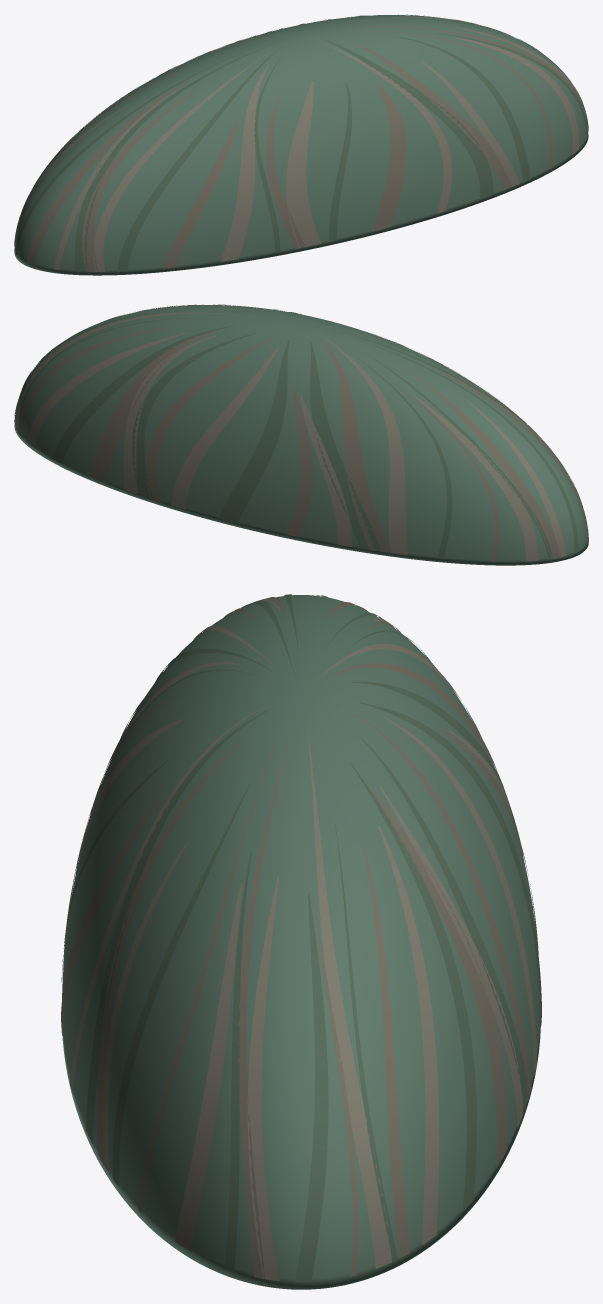
Rendered from tree06.glb.
3 renders of one model, top to bottom at view 1: azimuth 30°, elevation 25°; view 2: azimuth 150°, elevation 25°; view 3: azimuth 270°, elevation 25°, orthographic. The views are drawn at different scales.
Parts seen in each view (by area): view 1: Low forest hill, Long forest hill streak 35, Long forest hill streak 32, Long forest hill streak 37, Long forest hill streak 39, Long forest hill streak 30, Long forest hill streak 27, Long forest hill streak 40, Long forest hill streak 29, Long forest hill streak 28, Long forest hill streak 31, Long forest hill streak 25 (+13 smaller); view 2: Low forest hill, Long forest hill streak 16, Long forest hill streak 12, Long forest hill streak 17, Long forest hill streak 15, Long forest hill streak 07, Long forest hill streak 11, Long forest hill streak 09, Long forest hill streak 10, Long forest hill streak 20, Long forest hill streak 06, Long forest hill streak 22 (+14 smaller); view 3: Low forest hill, Long forest hill streak 02, Long forest hill streak 44, Long forest hill streak 00, Long forest hill streak 05, Long forest hill streak 47, Long forest hill streak 07, Long forest hill streak 06, Long forest hill streak 46, Long forest hill streak 04, Long forest hill streak 39, Long forest hill streak 45 (+16 smaller).
Part boxes in pixels (x1,y1,x2,y2): Low forest hill: [14, 15, 588, 275]; Long forest hill streak 35: [286, 81, 321, 248]; Long forest hill streak 32: [221, 64, 269, 261]; Long forest hill streak 37: [372, 83, 406, 231]; Long forest hill streak 39: [318, 37, 493, 199]; Long forest hill streak 30: [117, 48, 279, 271]; Long forest hill streak 27: [74, 42, 278, 271]; Long forest hill streak 40: [349, 42, 513, 190]; Long forest hill streak 29: [93, 52, 269, 271]; Long forest hill streak 28: [82, 89, 198, 271]; Long forest hill streak 31: [162, 118, 239, 268]; Long forest hill streak 25: [26, 80, 189, 264]; Low forest hill: [14, 305, 588, 565]; Long forest hill streak 16: [315, 334, 391, 552]; Long forest hill streak 12: [218, 340, 289, 523]; Long forest hill streak 17: [311, 329, 407, 555]; Long forest hill streak 15: [310, 342, 381, 551]; Long forest hill streak 07: [88, 330, 217, 482]; Long forest hill streak 11: [171, 347, 278, 509]; Long forest hill streak 09: [132, 333, 256, 499]; Long forest hill streak 10: [146, 332, 280, 502]; Long forest hill streak 20: [415, 397, 538, 561]; Long forest hill streak 06: [52, 326, 232, 463]; Long forest hill streak 22: [400, 367, 561, 558]; Low forest hill: [62, 595, 540, 1289]; Long forest hill streak 02: [307, 732, 391, 1268]; Long forest hill streak 44: [175, 882, 242, 1251]; Long forest hill streak 00: [295, 894, 328, 1282]; Long forest hill streak 05: [378, 826, 438, 1245]; Long forest hill streak 47: [247, 877, 279, 1281]; Long forest hill streak 07: [368, 783, 507, 1167]; Long forest hill streak 06: [351, 763, 476, 1211]; Long forest hill streak 46: [238, 715, 296, 1279]; Long forest hill streak 04: [361, 840, 410, 1258]; Long forest hill streak 39: [85, 706, 274, 1143]; Long forest hill streak 45: [224, 853, 251, 1271].
Bounding box in the file's own units: 1 × 0.2721 × 0.3709.
